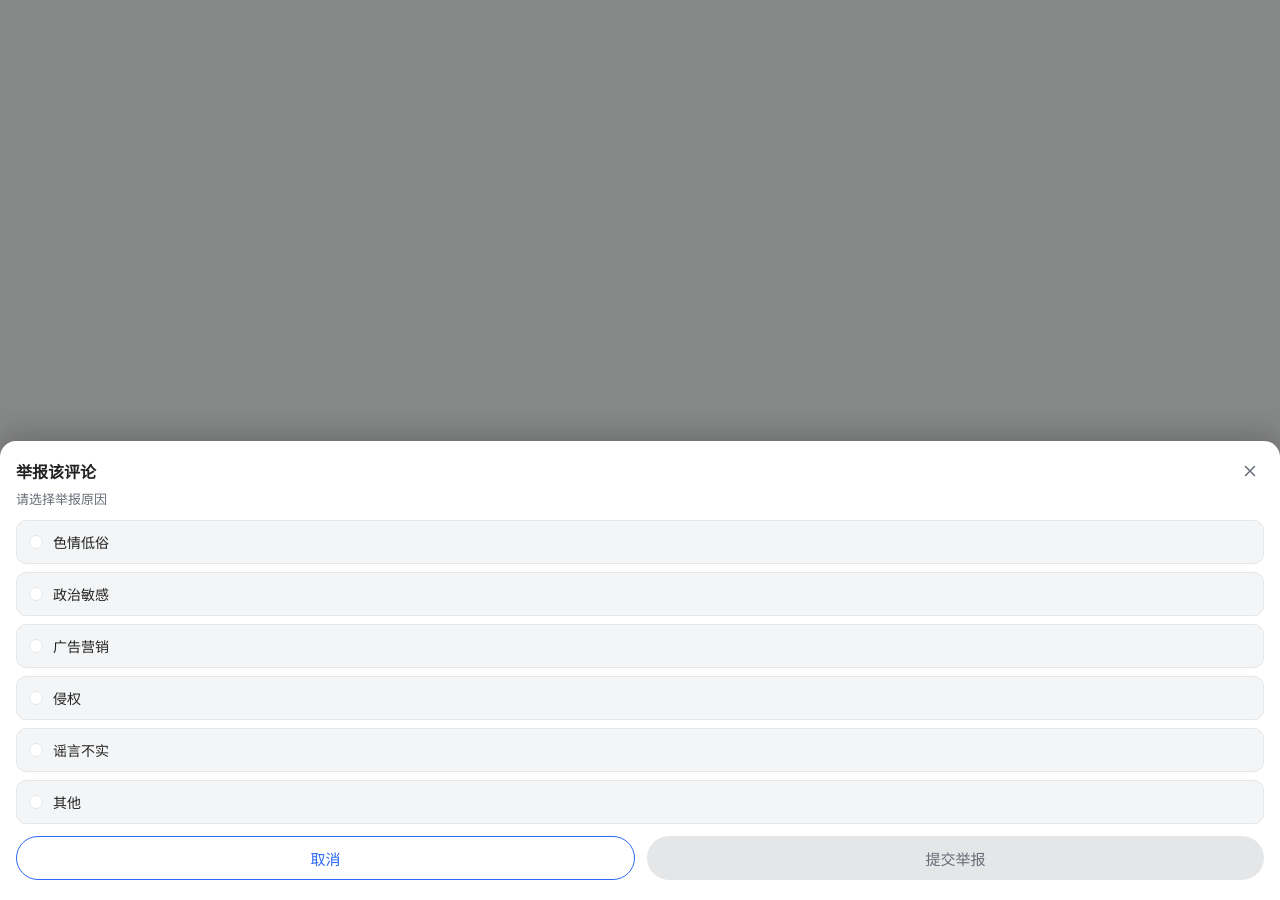
components/ReportDialog 举报分类弹窗 › 成功后不回显处置结果（阈值/是否隐藏不对外）
Click the radio button with class "reason" showing "色情低俗" at (81, 542), box [16,520,1264,564]
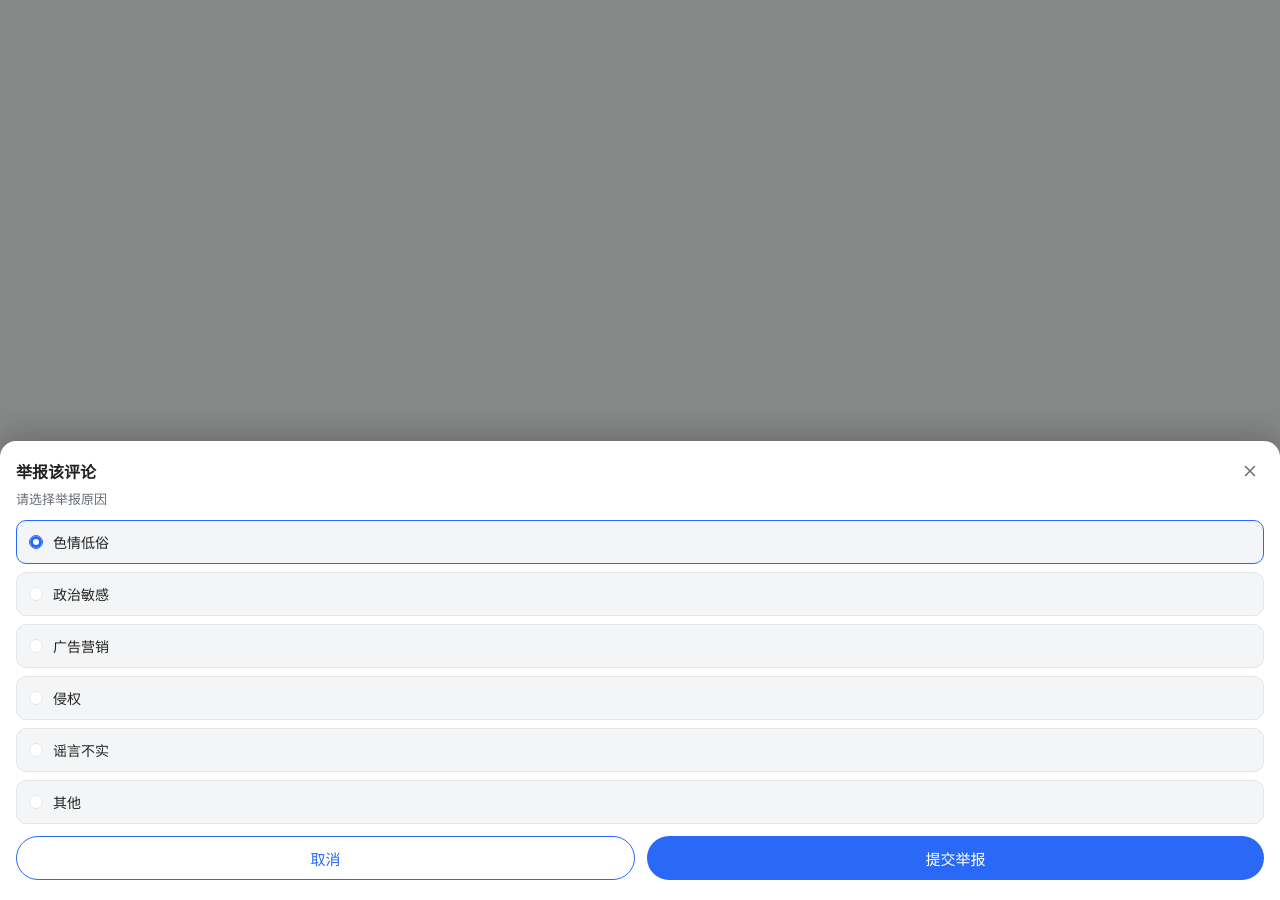
Click the button "提交举报" at (956, 858), box [647,836,1264,880]
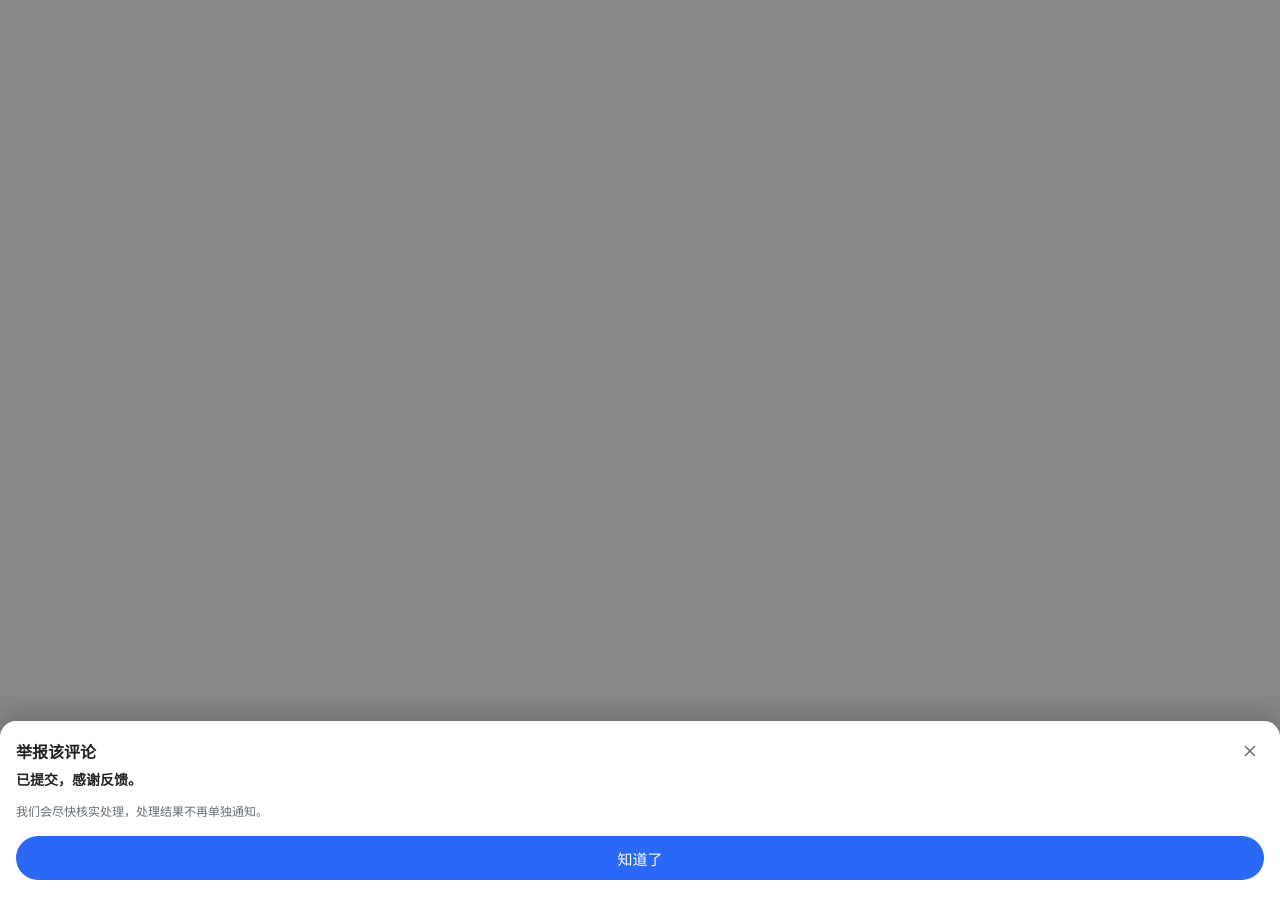
Expected: the text "已提交" is shown, [16,769,142,789]
